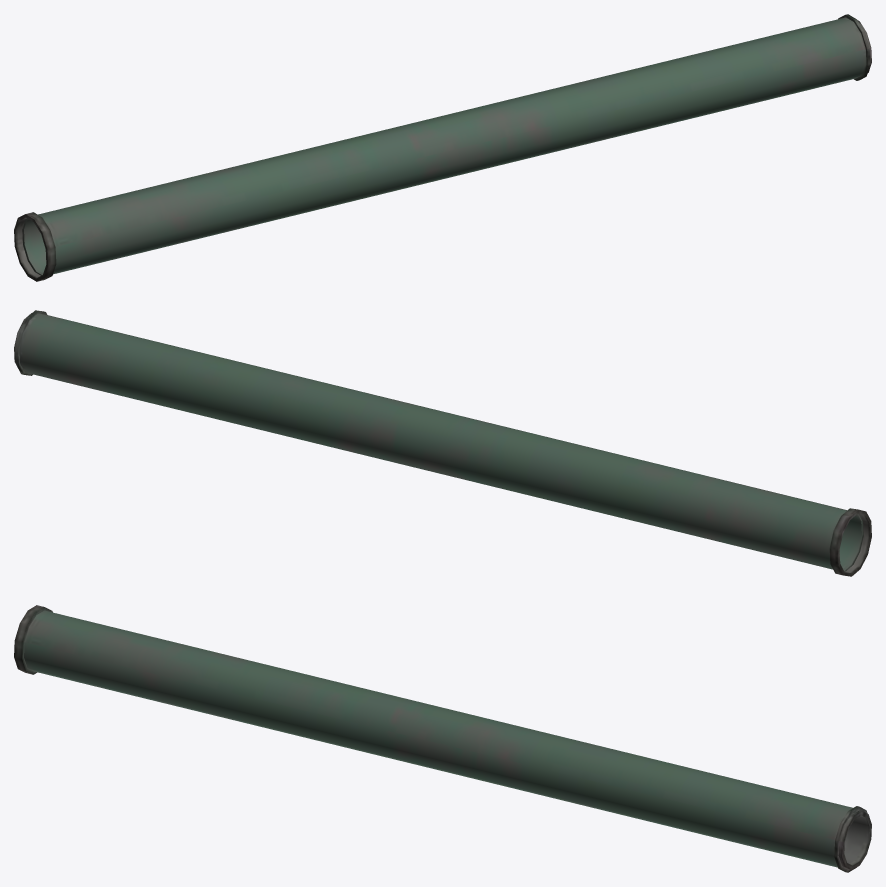
The model's file is pipe-length.gltf.
3 renders of one model, top to bottom at view 1: azimuth 30°, elevation 25°; view 2: azimuth 150°, elevation 25°; view 3: azimuth 330°, elevation 25°, orthographic.
Parts seen in each view (by area): view 1: prop; view 2: prop; view 3: prop.
Boxes of the visible parts, x1,y1,x2,y2 form: prop: (14, 14, 871, 281); prop: (14, 310, 871, 576); prop: (14, 605, 871, 872).
Bounding box in the file's own units: 3.05 × 0.218 × 0.218.
1 material, 1 textured.
